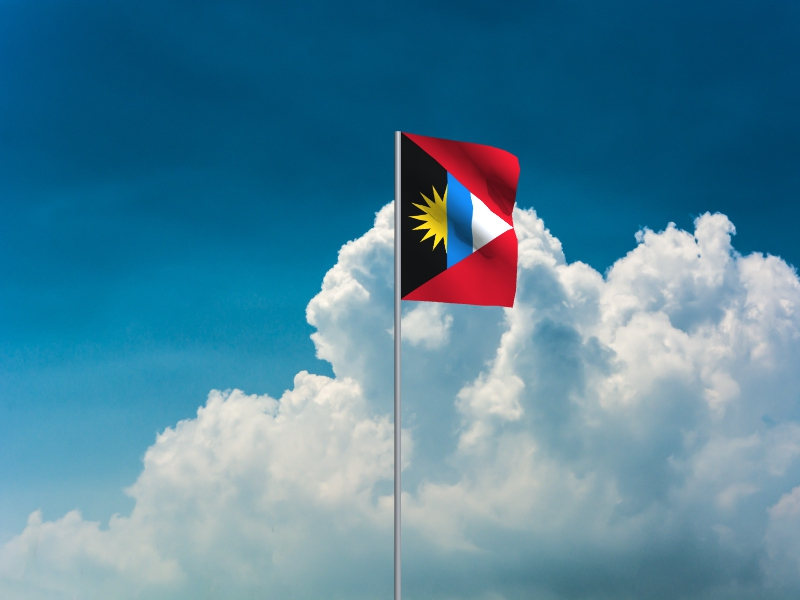ag: (402, 132, 521, 310)
